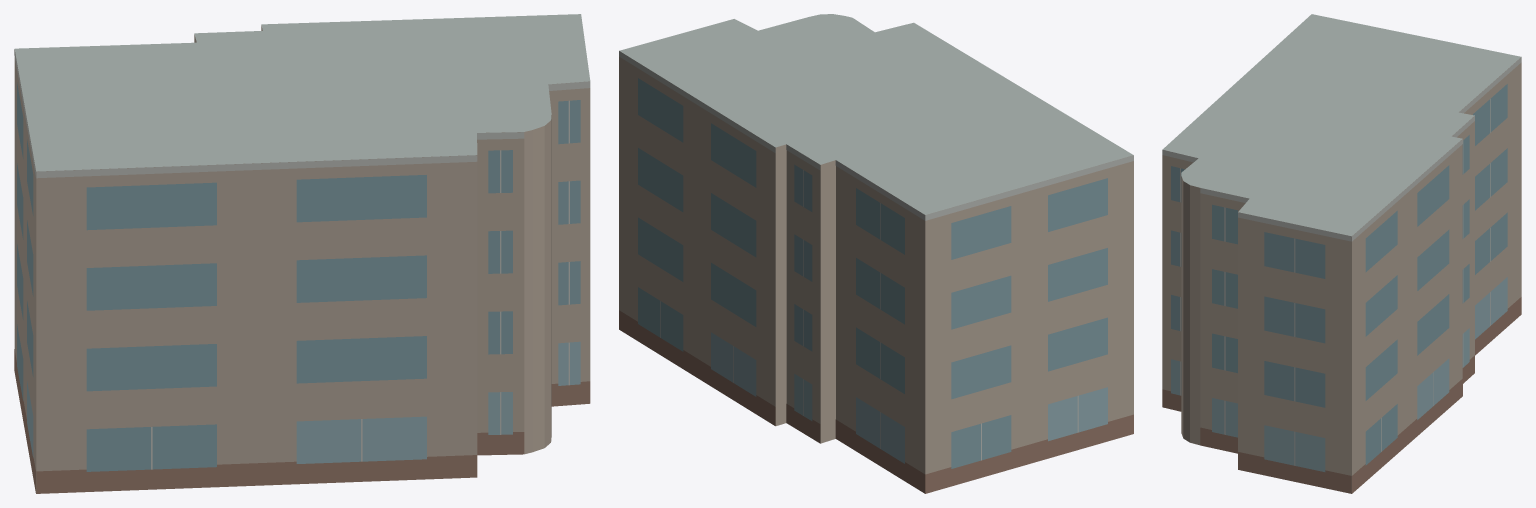
Rendered from survey-upis-32668827.glb.
3 renders of one model, left to right at view 1: azimuth 30°, elevation 25°; view 2: azimuth 150°, elevation 25°; view 3: azimuth 270°, elevation 25°, orthographic. The views are drawn at different scales.
Parts seen in each view (by area): view 1: survey-upis-32668827.tmp; view 2: survey-upis-32668827.tmp; view 3: survey-upis-32668827.tmp.
Boxes of the visible parts, x1,y1,x2,y2 form: survey-upis-32668827.tmp: (14, 14, 590, 493); survey-upis-32668827.tmp: (619, 14, 1133, 493); survey-upis-32668827.tmp: (1162, 14, 1521, 493).
Bounding box in the file's own units: 21.66 × 11.7 × 14.8.
